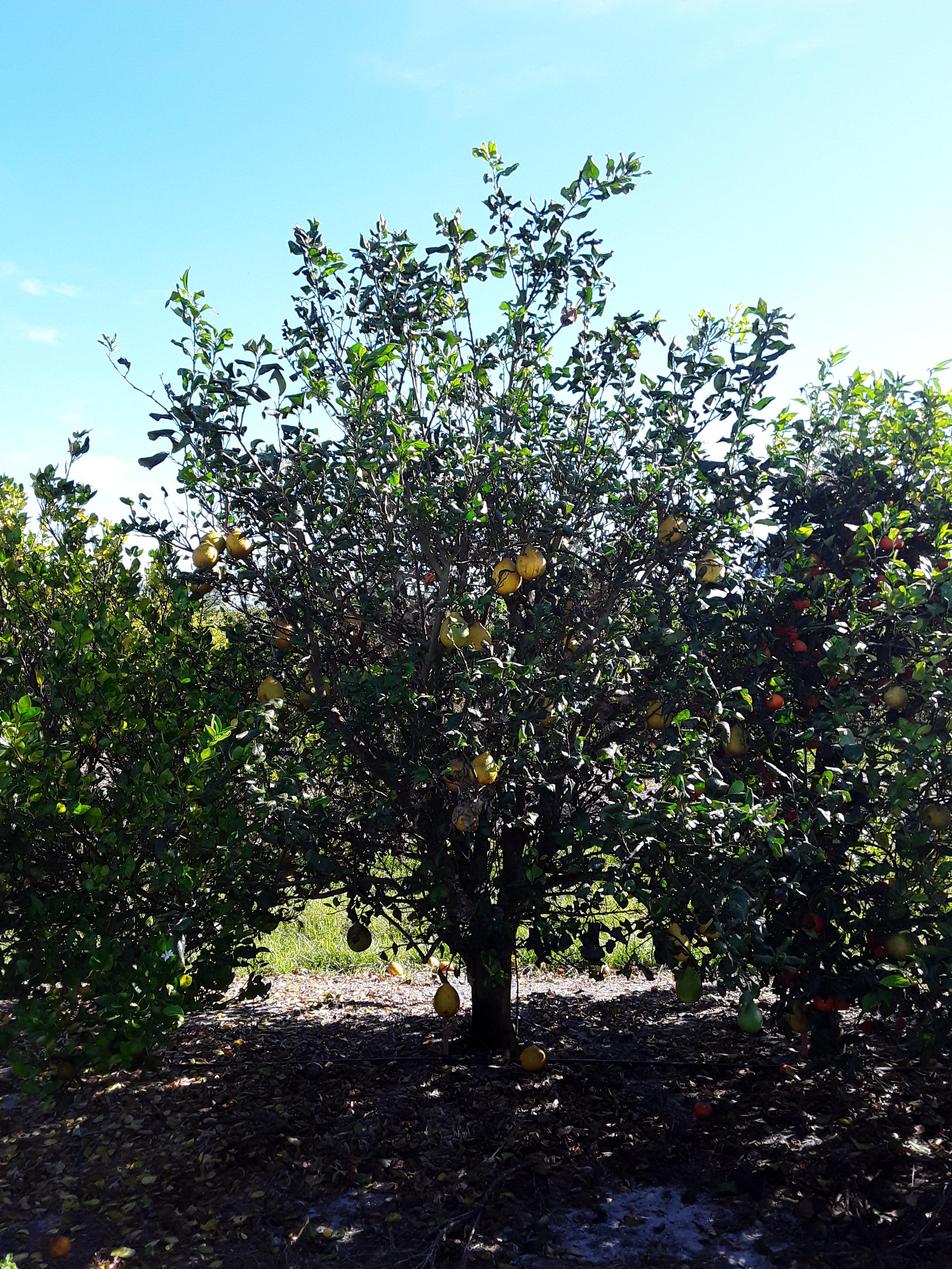fruit_on_ground: (658, 918, 693, 964), (436, 608, 473, 650), (489, 556, 524, 597), (692, 549, 729, 587), (655, 512, 692, 548), (469, 748, 504, 786), (673, 964, 705, 1004), (884, 928, 920, 962), (556, 632, 592, 665), (515, 544, 548, 580), (431, 982, 464, 1017), (462, 619, 494, 654), (223, 527, 256, 560), (439, 762, 472, 794), (342, 921, 374, 953), (693, 909, 726, 940), (919, 801, 952, 832), (735, 1000, 765, 1034), (296, 679, 327, 711), (531, 692, 560, 726), (338, 610, 369, 641), (255, 675, 286, 706), (271, 620, 301, 652), (720, 725, 749, 758), (642, 700, 670, 729), (191, 542, 219, 571), (880, 681, 909, 709), (451, 807, 481, 834), (799, 908, 827, 935), (199, 530, 227, 556), (784, 1007, 810, 1035), (266, 612, 295, 637), (188, 570, 215, 596), (751, 636, 777, 662), (810, 988, 836, 1013), (772, 620, 800, 643), (789, 639, 814, 662), (756, 762, 779, 784), (763, 690, 786, 712), (788, 592, 813, 612), (868, 942, 890, 964), (765, 887, 788, 908), (685, 778, 707, 799), (822, 673, 845, 693), (826, 603, 849, 623), (832, 992, 852, 1013), (556, 596, 578, 615), (802, 692, 822, 712), (871, 571, 892, 590), (360, 462, 379, 483), (782, 806, 802, 825), (858, 1019, 879, 1037), (899, 712, 921, 729), (933, 553, 951, 573), (896, 664, 917, 681), (804, 734, 822, 751), (926, 591, 944, 607), (806, 567, 824, 581), (892, 535, 906, 552), (422, 572, 436, 585)
fruit_on_tree: (42, 1232, 74, 1262), (518, 1043, 548, 1075), (691, 1098, 716, 1124), (385, 958, 405, 978), (877, 533, 896, 553), (775, 1061, 795, 1078), (892, 1013, 909, 1030), (435, 960, 457, 973), (424, 954, 441, 969)
